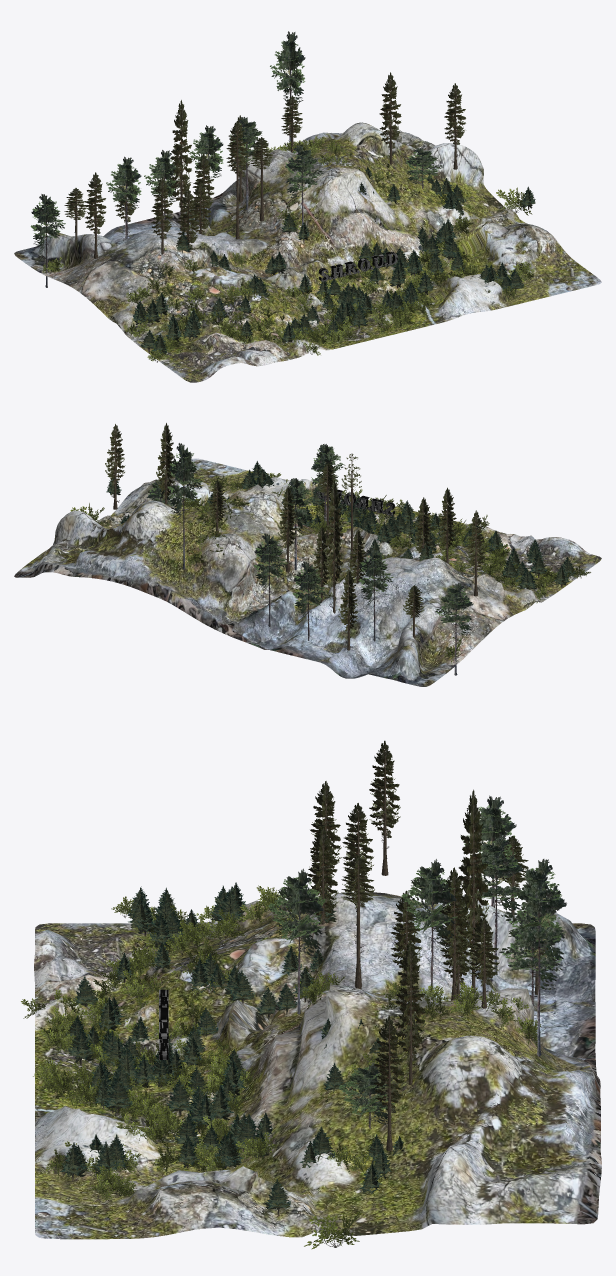
The model's file is shroud_menu.glb.
3 views of the same model, one above another, from view 1: azimuth 30°, elevation 25°; view 2: azimuth 150°, elevation 25°; view 3: azimuth 270°, elevation 25° (orthographic). The views are drawn at different scales.
Parts seen in each view (by area): view 1: a37081a7611992c6f6d9dc1786dbc08d_a37081a7611992c6f6d9dc1786d, 05ade0e713892be558511d706fa6c547-no-bg-preview (carve.photos (×9), Cylinder.023_5abdab9bf64818adacd4984d5925e5ca (1)-no-bg-prev, S.H.R.O.U.D, Cylinder.018_5abdab9bf64818adacd4984d5925e5ca (1)-no-bg-prev, Cylinder.015_5abdab9bf64818adacd4984d5925e5ca (1)-no-bg-prev, Cylinder.019_5abdab9bf64818adacd4984d5925e5ca (1)-no-bg-prev, Cylinder.016_5abdab9bf64818adacd4984d5925e5ca (1)-no-bg-prev, Cylinder.014_5abdab9bf64818adacd4984d5925e5ca (1)-no-bg-prev, Cylinder.012_5abdab9bf64818adacd4984d5925e5ca (1)-no-bg-prev, Cylinder.017_5abdab9bf64818adacd4984d5925e5ca (1)-no-bg-prev, Cylinder.020_5abdab9bf64818adacd4984d5925e5ca (1)-no-bg-prev (+1 smaller); view 2: a37081a7611992c6f6d9dc1786dbc08d_a37081a7611992c6f6d9dc1786d, 05ade0e713892be558511d706fa6c547-no-bg-preview (carve.photos (×7), Cylinder.023_5abdab9bf64818adacd4984d5925e5ca (1)-no-bg-prev, Cylinder.018_5abdab9bf64818adacd4984d5925e5ca (1)-no-bg-prev, S.H.R.O.U.D, Cylinder.015_5abdab9bf64818adacd4984d5925e5ca (1)-no-bg-prev, Cylinder.021_5abdab9bf64818adacd4984d5925e5ca (1)-no-bg-prev, Cylinder.024_5abdab9bf64818adacd4984d5925e5ca (1)-no-bg-prev, Cylinder.014_5abdab9bf64818adacd4984d5925e5ca (1)-no-bg-prev, Cylinder.016_5abdab9bf64818adacd4984d5925e5ca (1)-no-bg-prev, Cylinder.022_5abdab9bf64818adacd4984d5925e5ca (1)-no-bg-prev, Cylinder.019_5abdab9bf64818adacd4984d5925e5ca (1)-no-bg-prev (+5 smaller); view 3: a37081a7611992c6f6d9dc1786dbc08d_a37081a7611992c6f6d9dc1786d, 05ade0e713892be558511d706fa6c547-no-bg-preview (carve.photos (×11), Cylinder.023_5abdab9bf64818adacd4984d5925e5ca (1)-no-bg-prev, Cylinder.018_5abdab9bf64818adacd4984d5925e5ca (1)-no-bg-prev, Cylinder.016_5abdab9bf64818adacd4984d5925e5ca (1)-no-bg-prev, Cylinder.019_5abdab9bf64818adacd4984d5925e5ca (1)-no-bg-prev, Cylinder.014_5abdab9bf64818adacd4984d5925e5ca (1)-no-bg-prev, Cylinder.021_5abdab9bf64818adacd4984d5925e5ca (1)-no-bg-prev, Cylinder.015_5abdab9bf64818adacd4984d5925e5ca (1)-no-bg-prev, Cylinder.020_5abdab9bf64818adacd4984d5925e5ca (1)-no-bg-prev, Cylinder.017_5abdab9bf64818adacd4984d5925e5ca (1)-no-bg-prev, Cylinder.012_5abdab9bf64818adacd4984d5925e5ca (1)-no-bg-prev (+6 smaller).
Part boxes in pixels (x1,y1,x2,y2): a37081a7611992c6f6d9dc1786dbc08d_a37081a7611992c6f6d9dc1786d: (14, 122, 601, 382); 05ade0e713892be558511d706fa6c547-no-bg-preview (carve.photos (×9): (31, 31, 443, 287); Cylinder.023_5abdab9bf64818adacd4984d5925e5ca (1)-no-bg-prev: (170, 100, 191, 227); S.H.R.O.U.D: (318, 251, 398, 281); Cylinder.018_5abdab9bf64818adacd4984d5925e5ca (1)-no-bg-prev: (379, 72, 401, 153); Cylinder.015_5abdab9bf64818adacd4984d5925e5ca (1)-no-bg-prev: (151, 177, 172, 242); Cylinder.019_5abdab9bf64818adacd4984d5925e5ca (1)-no-bg-prev: (444, 83, 465, 148); Cylinder.016_5abdab9bf64818adacd4984d5925e5ca (1)-no-bg-prev: (84, 172, 106, 237); Cylinder.014_5abdab9bf64818adacd4984d5925e5ca (1)-no-bg-prev: (177, 188, 198, 249); Cylinder.012_5abdab9bf64818adacd4984d5925e5ca (1)-no-bg-prev: (226, 121, 247, 190); Cylinder.017_5abdab9bf64818adacd4984d5925e5ca (1)-no-bg-prev: (190, 181, 210, 234); Cylinder.020_5abdab9bf64818adacd4984d5925e5ca (1)-no-bg-prev: (281, 95, 302, 137); a37081a7611992c6f6d9dc1786dbc08d_a37081a7611992c6f6d9dc1786d: (14, 458, 601, 686); 05ade0e713892be558511d706fa6c547-no-bg-preview (carve.photos (×7): (168, 443, 473, 675); Cylinder.023_5abdab9bf64818adacd4984d5925e5ca (1)-no-bg-prev: (325, 479, 343, 587); Cylinder.018_5abdab9bf64818adacd4984d5925e5ca (1)-no-bg-prev: (157, 423, 174, 499); S.H.R.O.U.D: (316, 488, 395, 515); Cylinder.015_5abdab9bf64818adacd4984d5925e5ca (1)-no-bg-prev: (439, 487, 456, 549); Cylinder.021_5abdab9bf64818adacd4984d5925e5ca (1)-no-bg-prev: (279, 486, 297, 547); Cylinder.024_5abdab9bf64818adacd4984d5925e5ca (1)-no-bg-prev: (340, 569, 357, 631); Cylinder.014_5abdab9bf64818adacd4984d5925e5ca (1)-no-bg-prev: (415, 497, 432, 558); Cylinder.016_5abdab9bf64818adacd4984d5925e5ca (1)-no-bg-prev: (467, 510, 484, 572); Cylinder.022_5abdab9bf64818adacd4984d5925e5ca (1)-no-bg-prev: (313, 525, 329, 587); Cylinder.019_5abdab9bf64818adacd4984d5925e5ca (1)-no-bg-prev: (107, 424, 124, 485); a37081a7611992c6f6d9dc1786dbc08d_a37081a7611992c6f6d9dc1786d: (34, 892, 601, 1239); 05ade0e713892be558511d706fa6c547-no-bg-preview (carve.photos (×11): (268, 795, 566, 1129); Cylinder.023_5abdab9bf64818adacd4984d5925e5ca (1)-no-bg-prev: (457, 789, 488, 959); Cylinder.018_5abdab9bf64818adacd4984d5925e5ca (1)-no-bg-prev: (394, 940, 425, 1066); Cylinder.016_5abdab9bf64818adacd4984d5925e5ca (1)-no-bg-prev: (369, 740, 399, 842); Cylinder.019_5abdab9bf64818adacd4984d5925e5ca (1)-no-bg-prev: (373, 1015, 404, 1117); Cylinder.014_5abdab9bf64818adacd4984d5925e5ca (1)-no-bg-prev: (307, 826, 337, 924); Cylinder.021_5abdab9bf64818adacd4984d5925e5ca (1)-no-bg-prev: (438, 867, 468, 969); Cylinder.015_5abdab9bf64818adacd4984d5925e5ca (1)-no-bg-prev: (310, 781, 340, 877); Cylinder.020_5abdab9bf64818adacd4984d5925e5ca (1)-no-bg-prev: (468, 917, 498, 985); Cylinder.017_5abdab9bf64818adacd4984d5925e5ca (1)-no-bg-prev: (390, 890, 421, 973); Cylinder.012_5abdab9bf64818adacd4984d5925e5ca (1)-no-bg-prev: (342, 803, 373, 911).
Size of the model in its own units: 33.61 by 13.04 by 23.4.
Materials: 11 (11 with a texture image).
